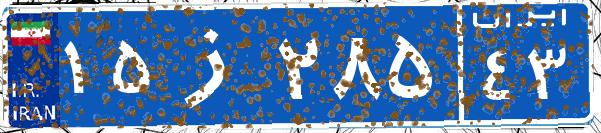1: (57, 26, 110, 107)
2: (273, 28, 330, 110)
3: (525, 38, 570, 115)
4: (475, 38, 525, 113)
5: (385, 28, 445, 110), (110, 28, 158, 105)
8: (330, 28, 385, 110)
ز: (158, 15, 273, 115)
